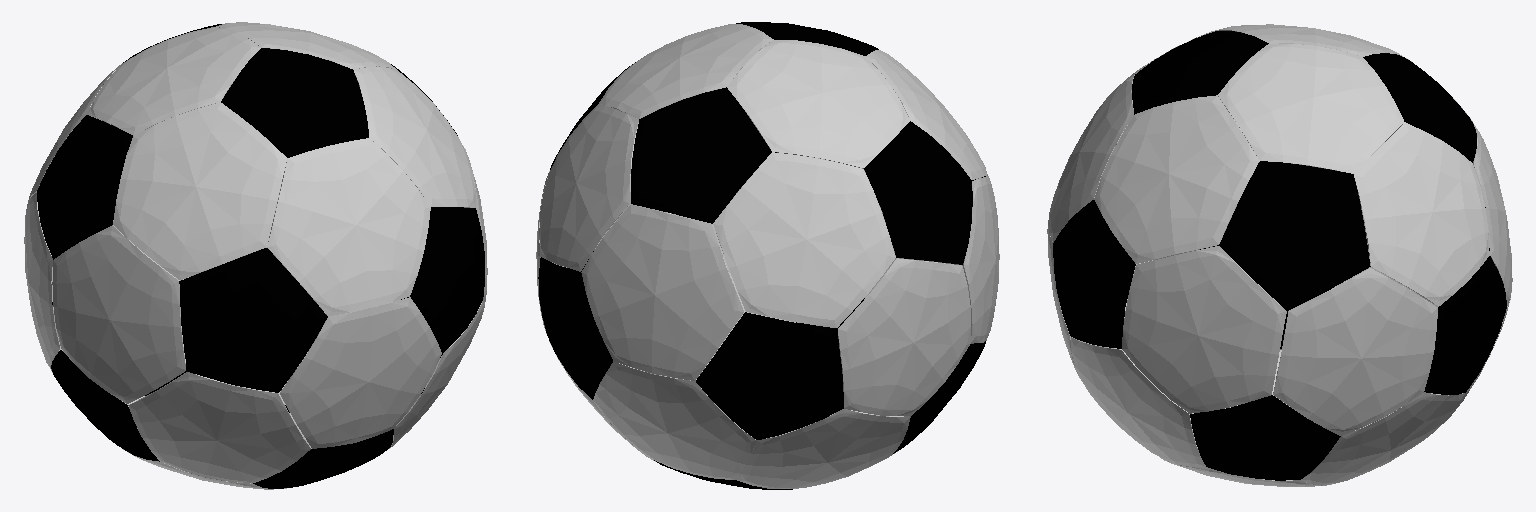
Rendered from Web3D_Ball_null.obj.
3 views of the same model, side by side, from view 1: azimuth 30°, elevation 25°; view 2: azimuth 150°, elevation 25°; view 3: azimuth 270°, elevation 25° (orthographic).
Parts seen in each view (by area): view 1: ball_null; view 2: ball_null; view 3: ball_null.
Boxes of the visible parts, x1,y1,x2,y2 form: ball_null: [24, 22, 487, 489]; ball_null: [536, 22, 999, 489]; ball_null: [1047, 24, 1512, 486].
Bounding box in the file's own units: 22.23 × 22.26 × 22.06.